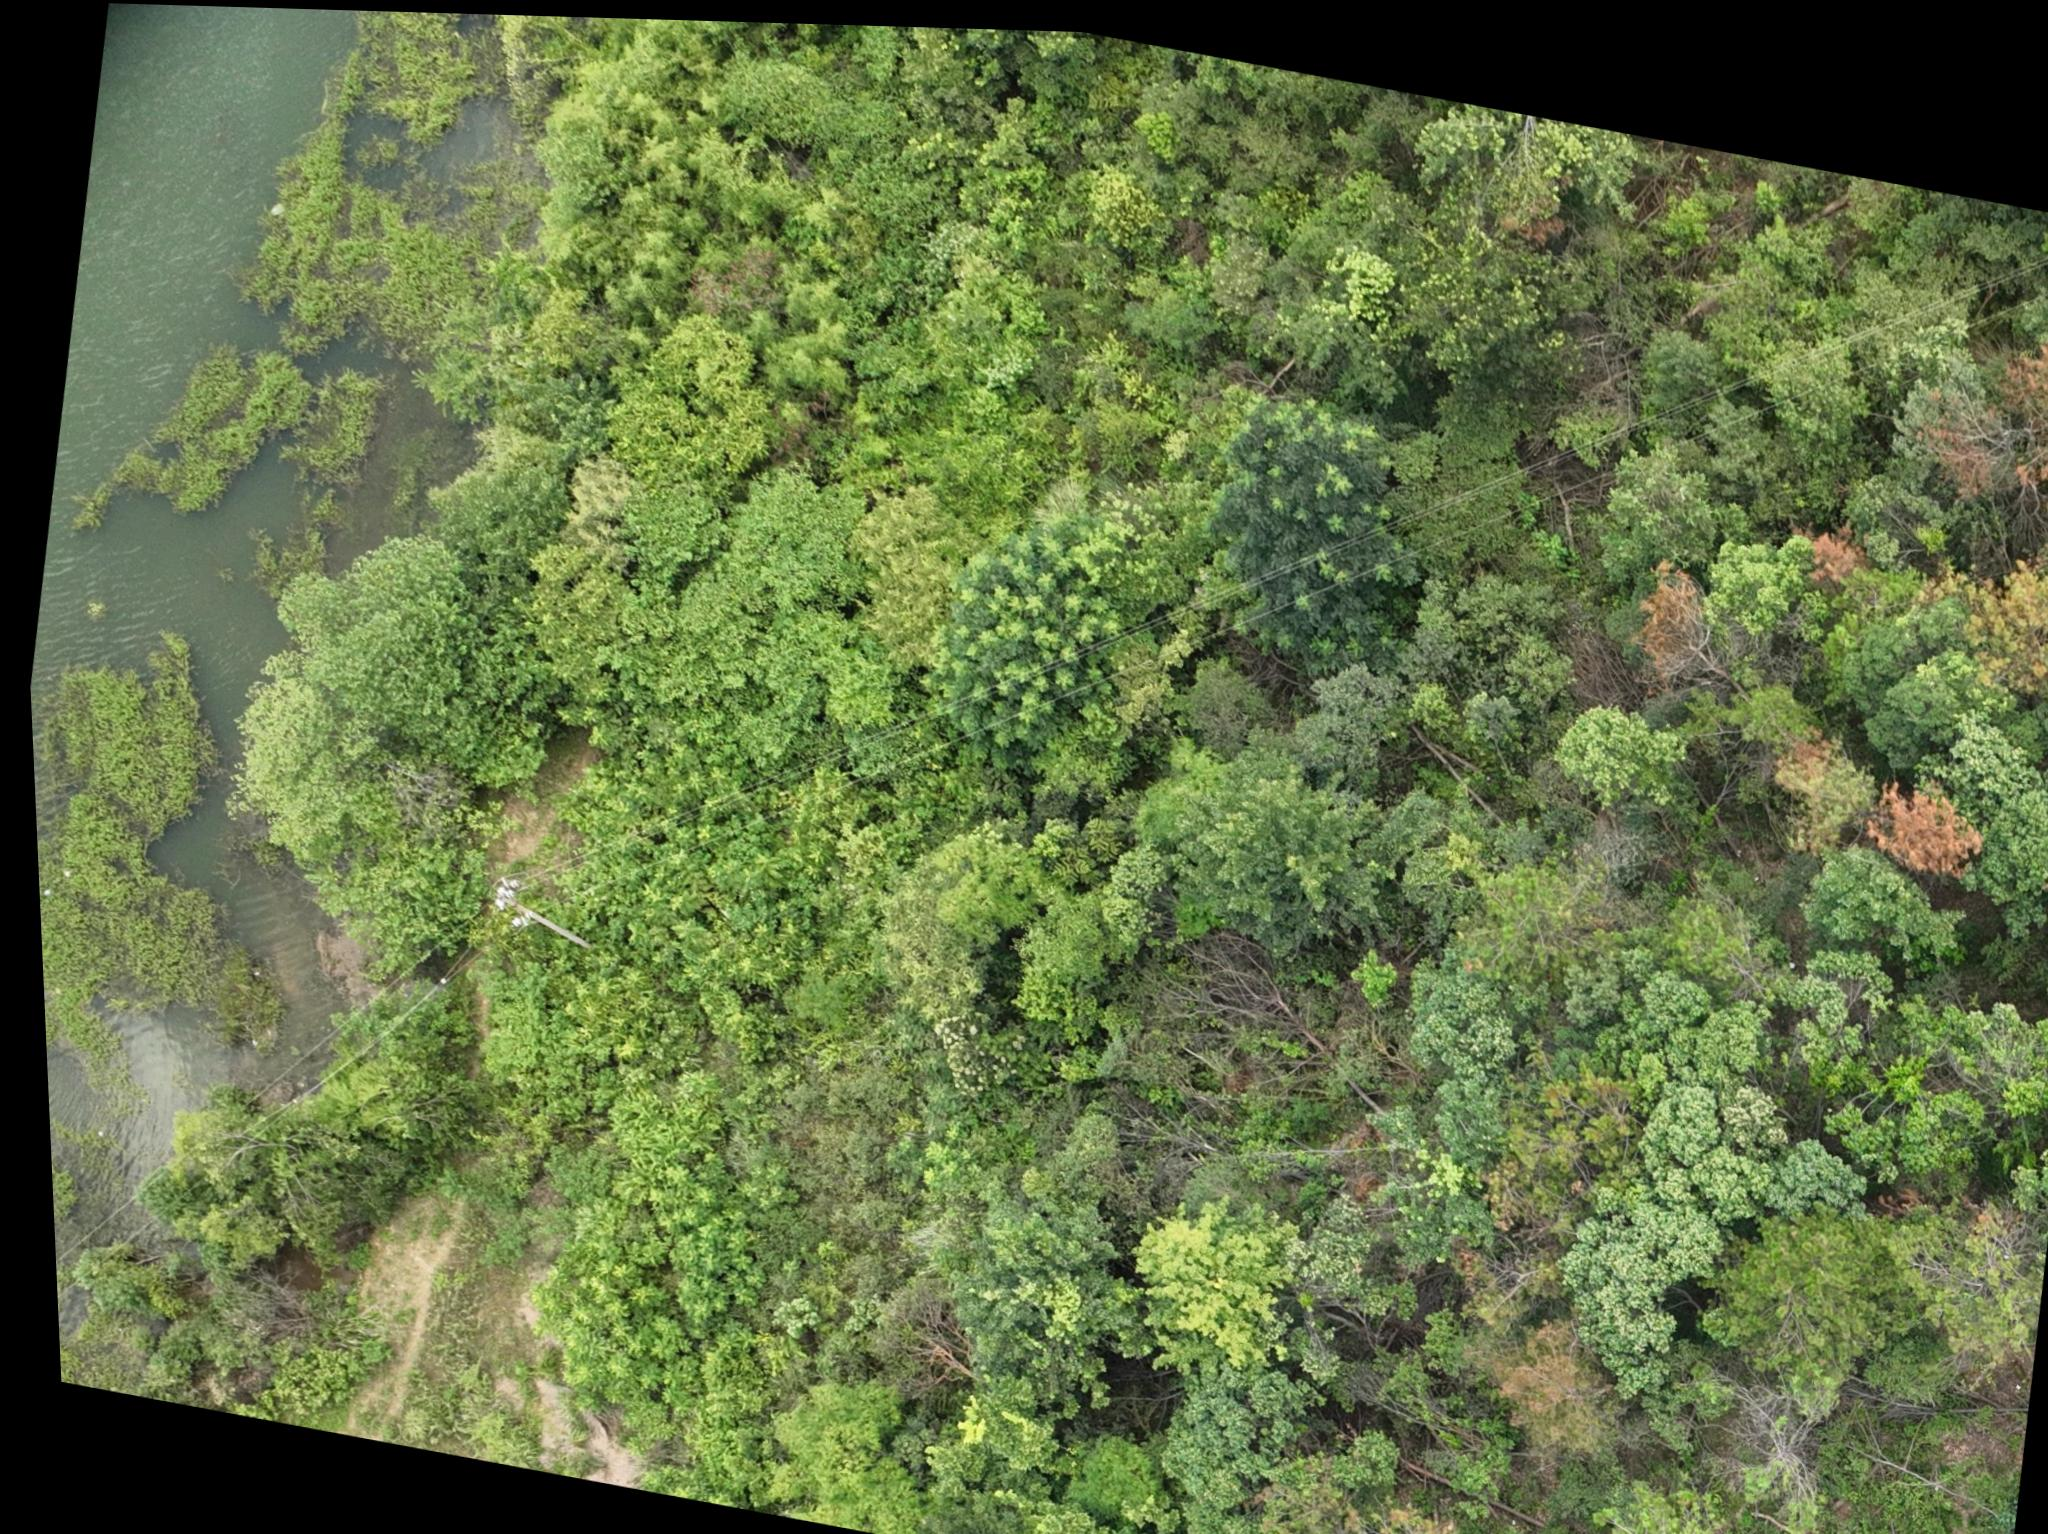dead: (1139, 920, 1310, 1051)
heavy: (1856, 765, 2016, 893), (1980, 325, 2048, 520)
